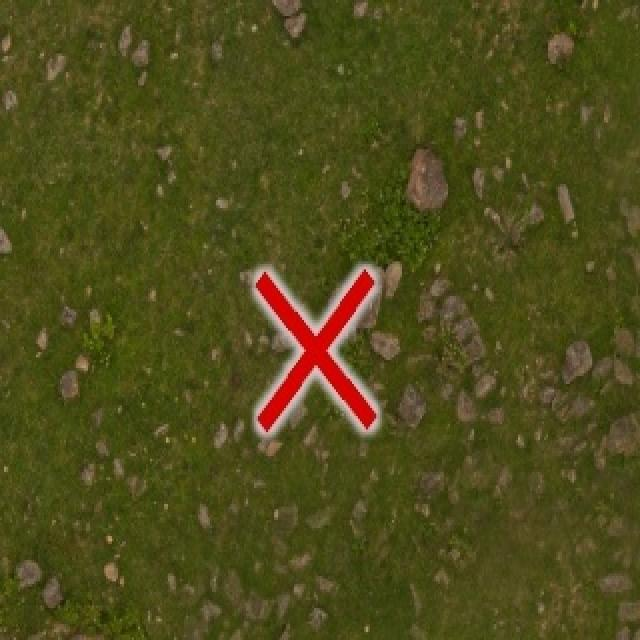x_marker: (255, 268, 375, 431)
